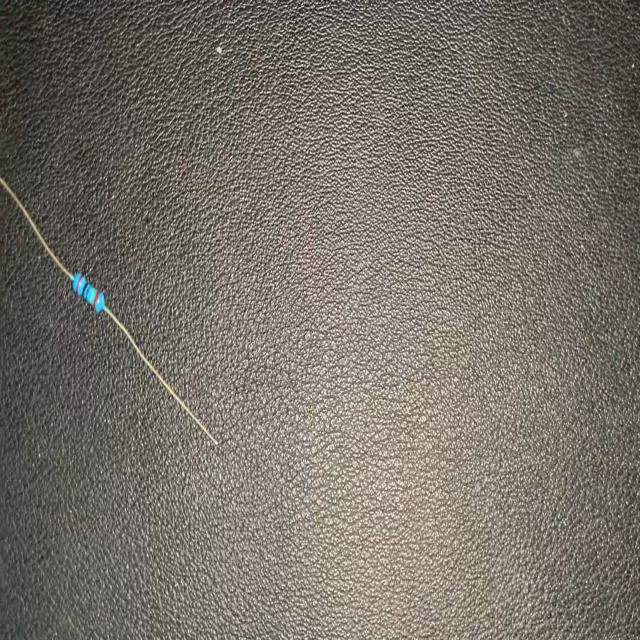resistor: (0, 162, 223, 458)
